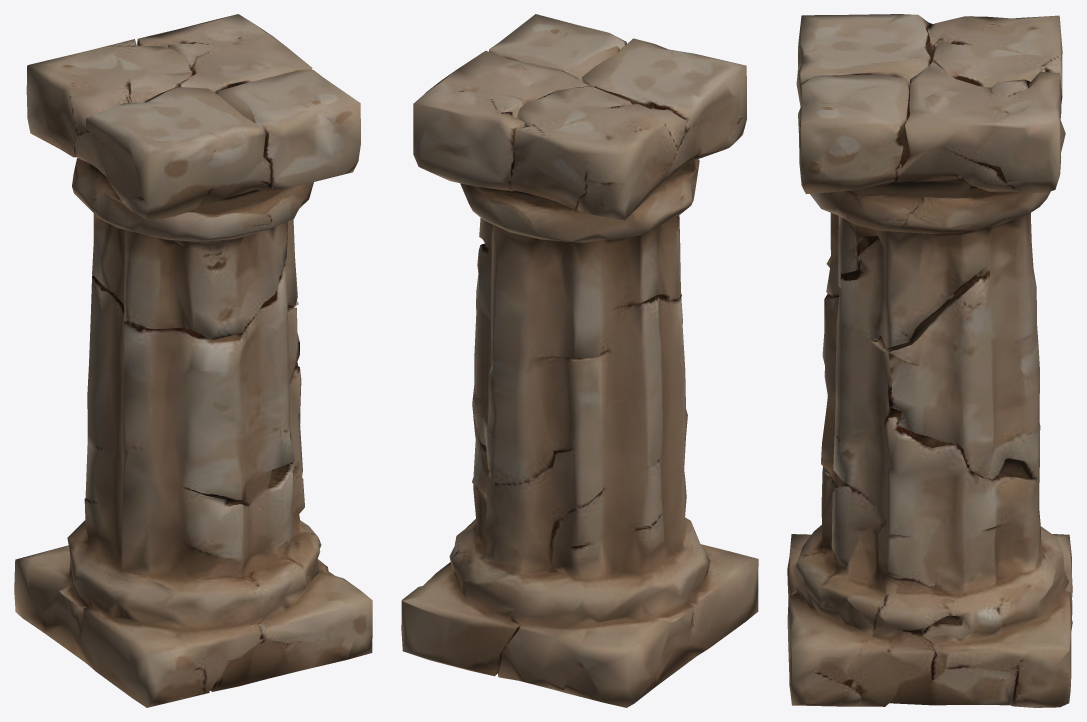
Rendered from ruin_column.glb.
The picture shows the model from 3 angles, left to right: view 1: azimuth 30°, elevation 25°; view 2: azimuth 150°, elevation 25°; view 3: azimuth 270°, elevation 25°; orthographic projection. The views are drawn at different scales.
Parts seen in each view (by area): view 1: tripo_node_96f260b3-1b25-4301-9e88-ec2903a174d2; view 2: tripo_node_96f260b3-1b25-4301-9e88-ec2903a174d2; view 3: tripo_node_96f260b3-1b25-4301-9e88-ec2903a174d2.
Part boxes in pixels (left/top/right/bottom): tripo_node_96f260b3-1b25-4301-9e88-ec2903a174d2: left=14, top=14, right=372, bottom=707; tripo_node_96f260b3-1b25-4301-9e88-ec2903a174d2: left=401, top=14, right=758, bottom=707; tripo_node_96f260b3-1b25-4301-9e88-ec2903a174d2: left=787, top=14, right=1072, bottom=707.
Bounding box in the file's own units: 0.4393 × 1 × 0.4416.
Materials: 1 (1 with a texture image).
